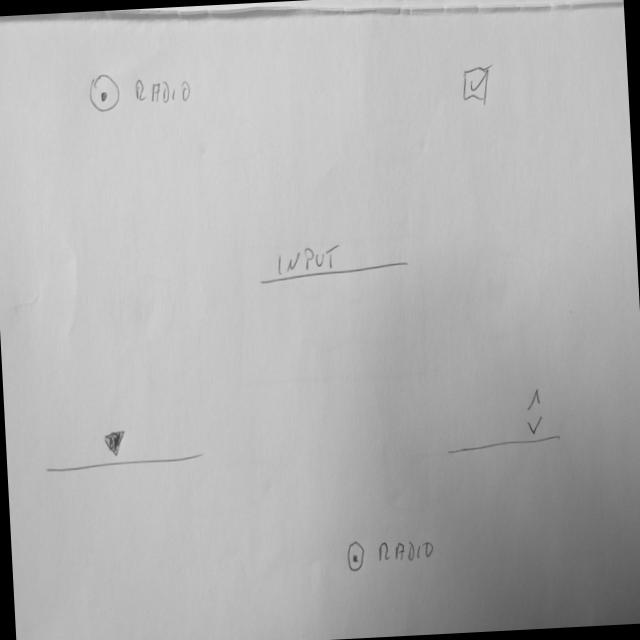checkbox: (461, 63, 495, 108)
input: (257, 239, 413, 290)
number-input: (441, 384, 566, 459)
radio: (89, 69, 196, 119), (346, 535, 440, 577)
